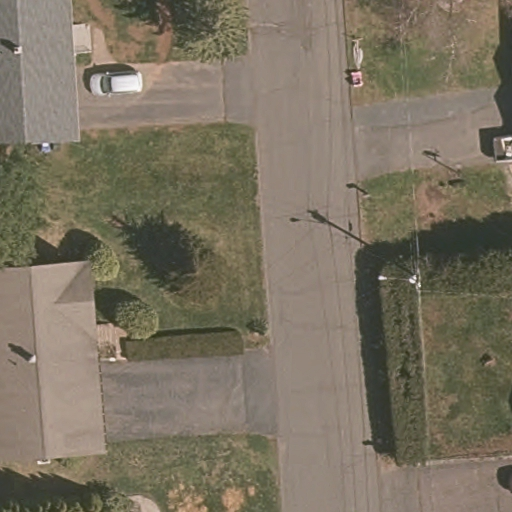DT: (359, 253, 436, 303)
